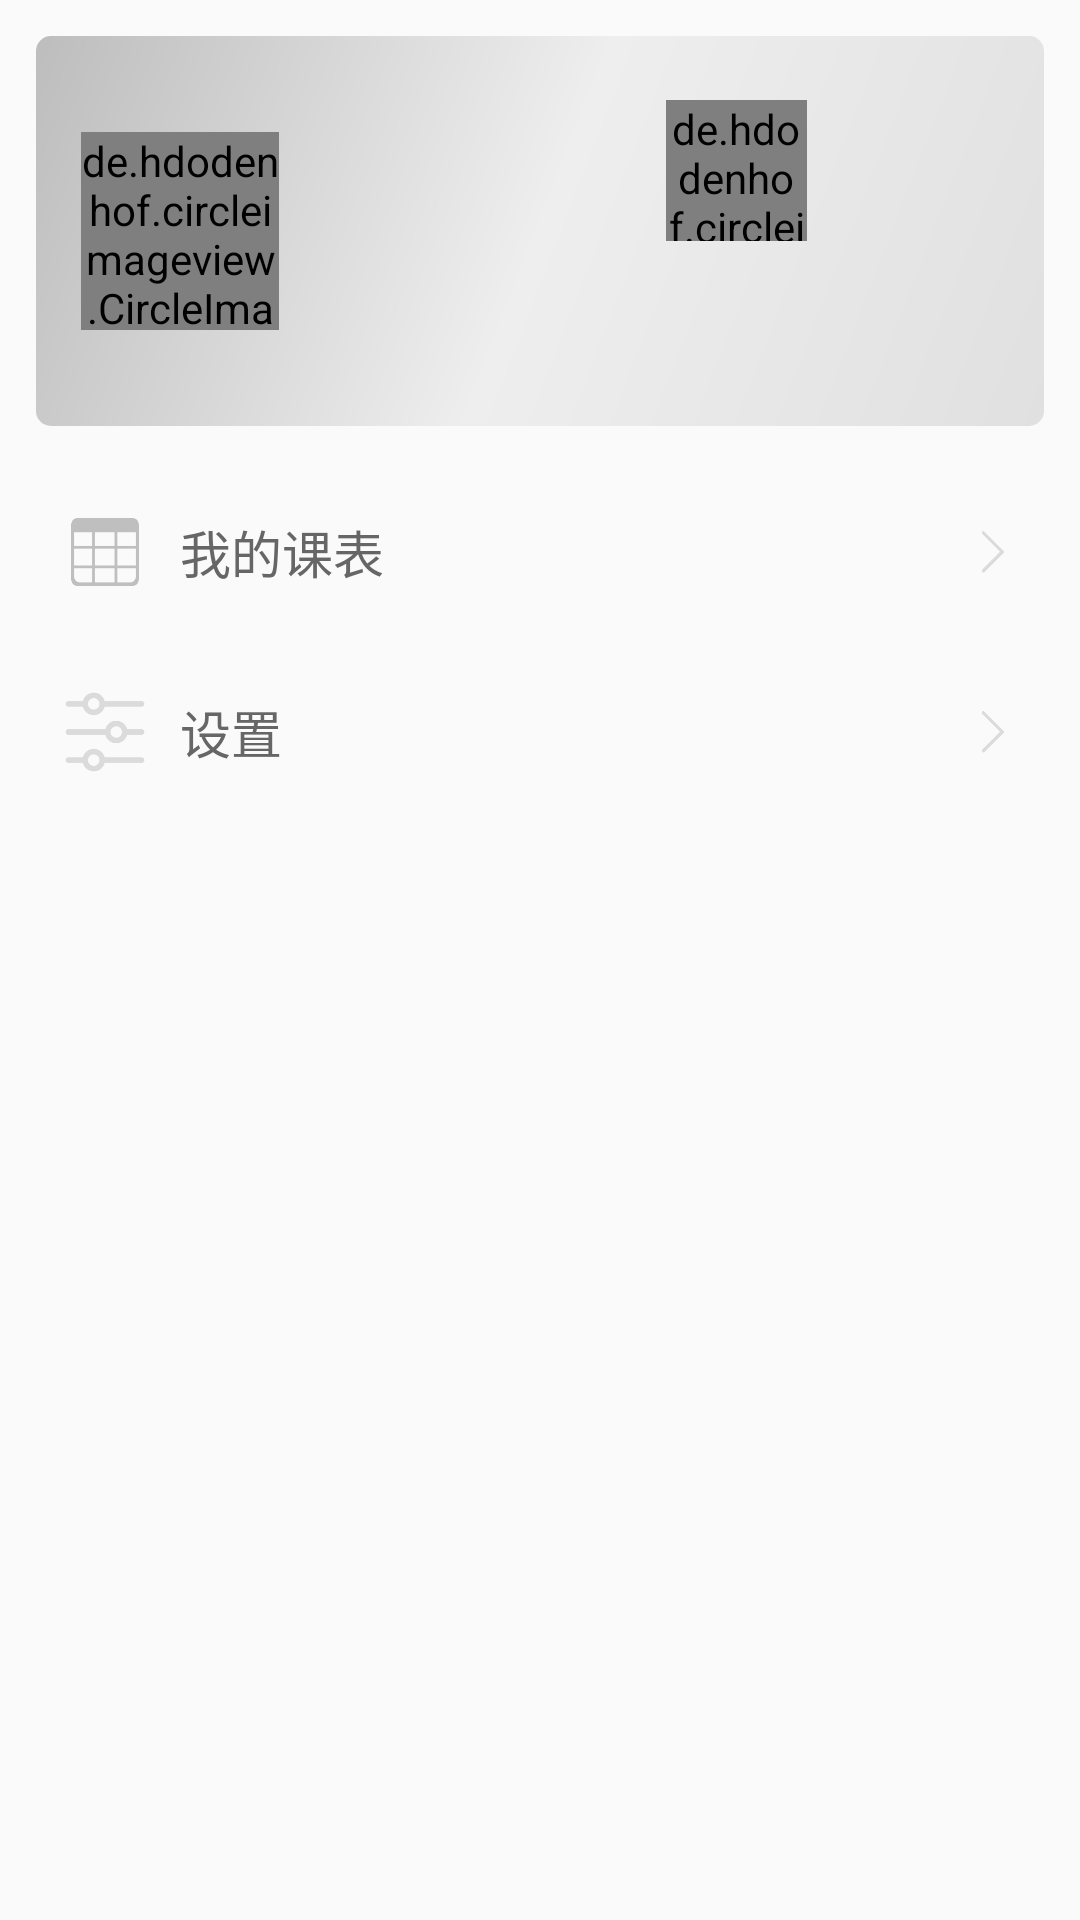

Where icons sit on this 1080*1920 app screen, as [x1, y1, x2, y2]:
right: [982, 531, 1004, 572], [982, 711, 1004, 752]
setting: [66, 693, 144, 771]
timetable: [71, 518, 139, 586]
